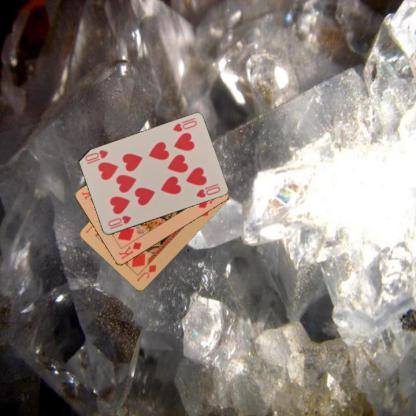10h: (170, 118, 198, 133), (105, 213, 132, 228)
Jd: (134, 262, 158, 283)
Kd: (116, 240, 143, 261)
